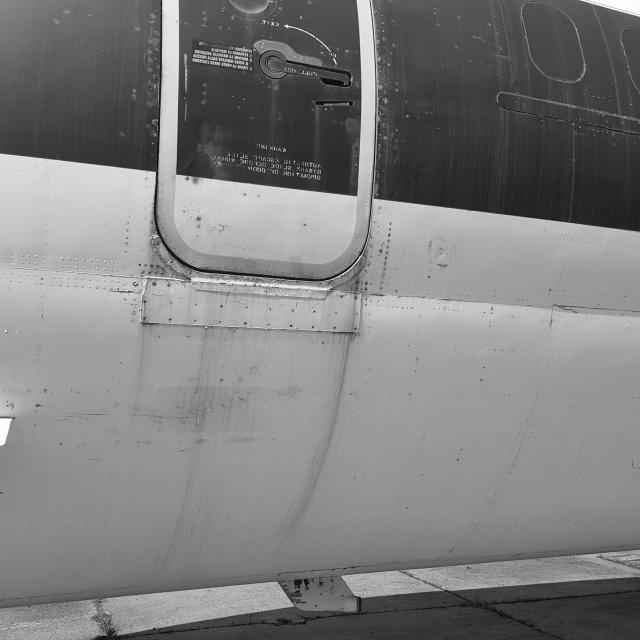crack: (554, 300, 582, 322)
